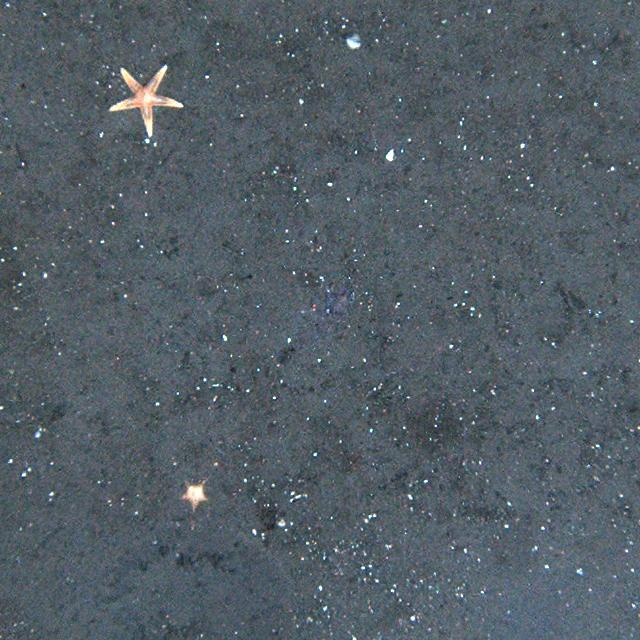flatfish: (272, 269, 358, 372)
